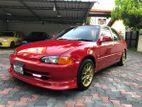car: (11, 22, 126, 92), (0, 30, 23, 46)
